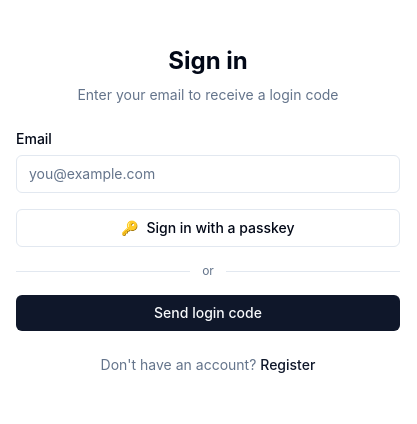
it: LoginPage › displays error alert when login request fails
Type "test@example.com" into the field with id "email".
click(208, 174); type("test@example.com")  # box [16,155,400,193]
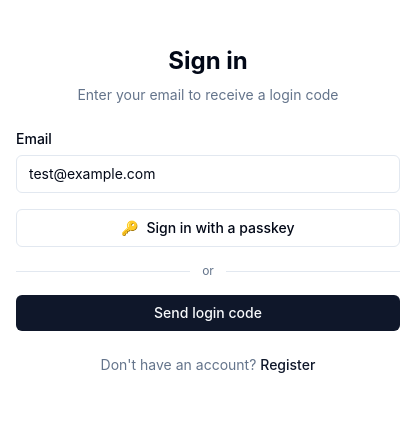
Submit the form, box [16,129,400,331]
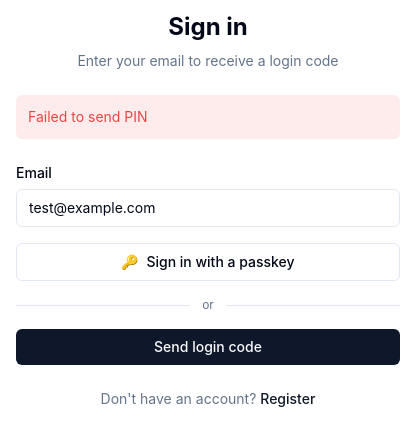
Check: the message "Failed to send PIN" is shown, box [16,95,400,139]
